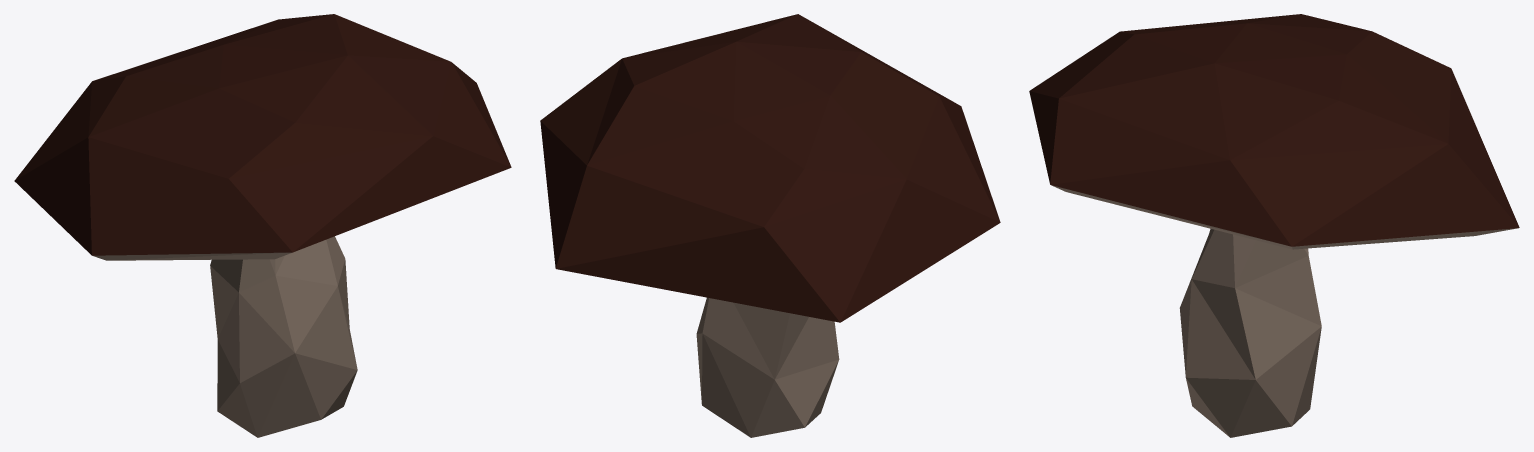
Rendered from SENE_EDAMA-001.FBX.
3 views of the same model, side by side, from view 1: azimuth 30°, elevation 25°; view 2: azimuth 150°, elevation 25°; view 3: azimuth 270°, elevation 25° (orthographic). The views are drawn at different scales.
Visible parts, largest first — view 1: SENE_EDAMA-001; view 2: SENE_EDAMA-001; view 3: SENE_EDAMA-001.
Boxes of the visible parts, left/top/right/bottom form: SENE_EDAMA-001: left=14, top=14, right=511, bottom=437; SENE_EDAMA-001: left=540, top=14, right=1000, bottom=437; SENE_EDAMA-001: left=1029, top=14, right=1519, bottom=437.
Bounding box in the file's own units: 1084 × 870 × 1026.
